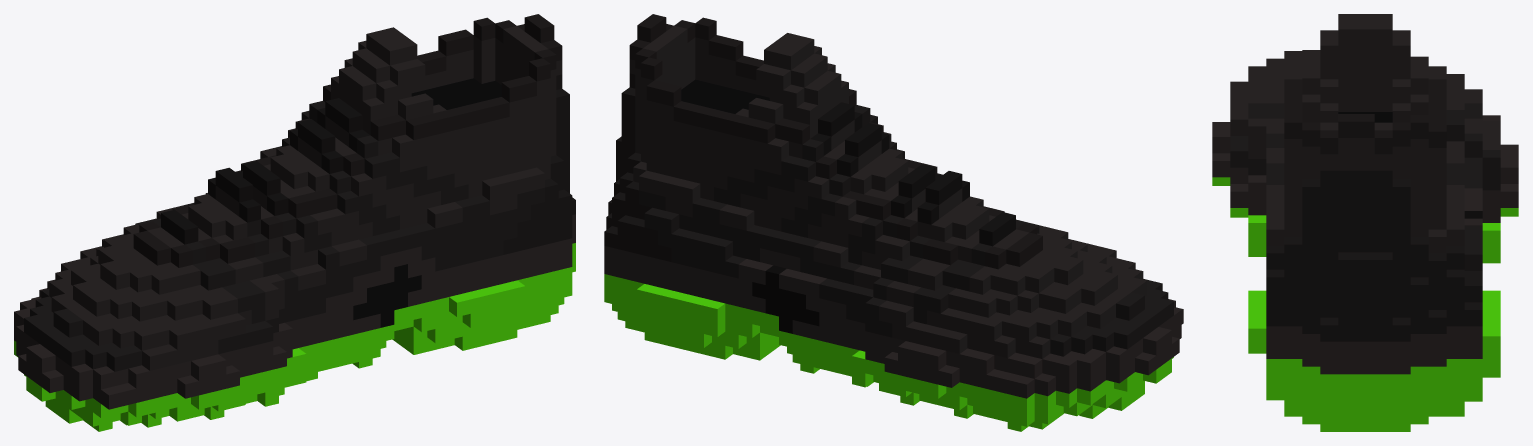
File: Green Treat.fbx
3 renders of one model, left to right at view 1: azimuth 30°, elevation 25°; view 2: azimuth 150°, elevation 25°; view 3: azimuth 270°, elevation 25°, orthographic. The views are drawn at different scales.
Visible parts, largest first — view 1: Untitled; view 2: Untitled; view 3: Untitled.
Boxes of the visible parts, x1,y1,x2,y2 form: Untitled: [14, 14, 575, 431]; Untitled: [604, 14, 1183, 431]; Untitled: [1212, 14, 1518, 431].
Size of the model in its own units: 390 by 200 by 170.
